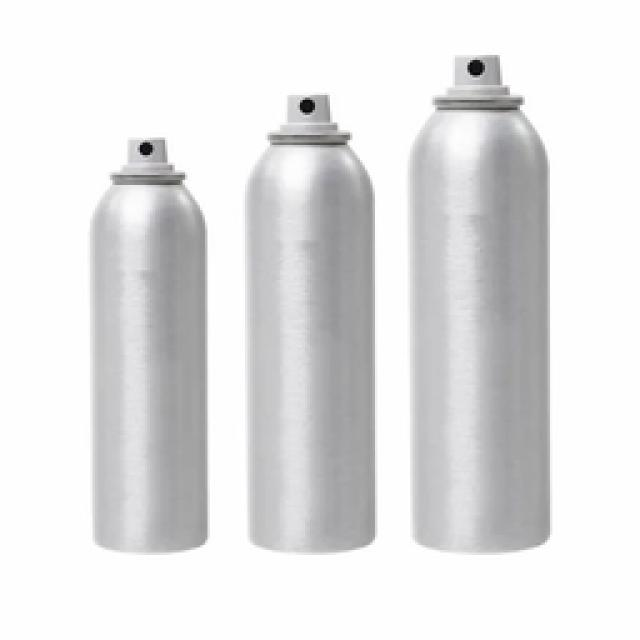alumunium: (410, 85, 548, 550), (245, 132, 372, 550), (90, 162, 205, 550)
